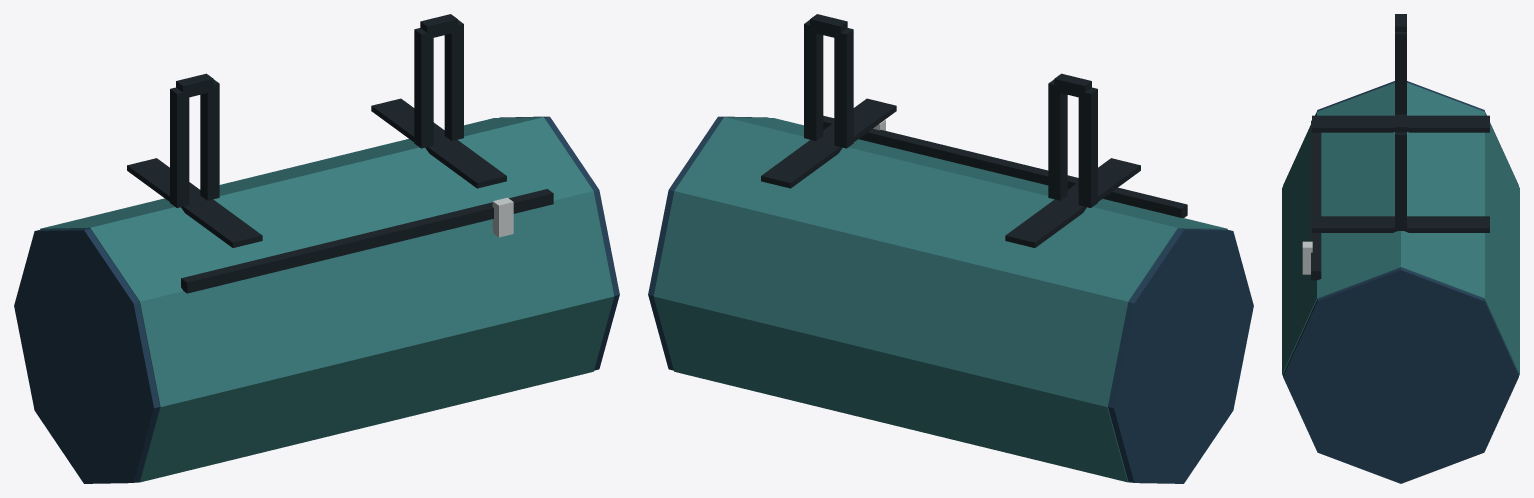
File: b17_sports_duffel_bag.glb
The picture shows the model from 3 angles, left to right: view 1: azimuth 30°, elevation 25°; view 2: azimuth 150°, elevation 25°; view 3: azimuth 270°, elevation 25°; orthographic projection. The views are drawn at different scales.
Visible parts, largest first — view 1: b17_sports_duffel_bag; view 2: b17_sports_duffel_bag; view 3: b17_sports_duffel_bag.
Boxes of the visible parts, x1,y1,x2,y2 form: b17_sports_duffel_bag: [14, 14, 619, 483]; b17_sports_duffel_bag: [648, 14, 1253, 483]; b17_sports_duffel_bag: [1282, 14, 1519, 483].
Size of the model in its own units: 0.534 by 0.414 by 0.28.
